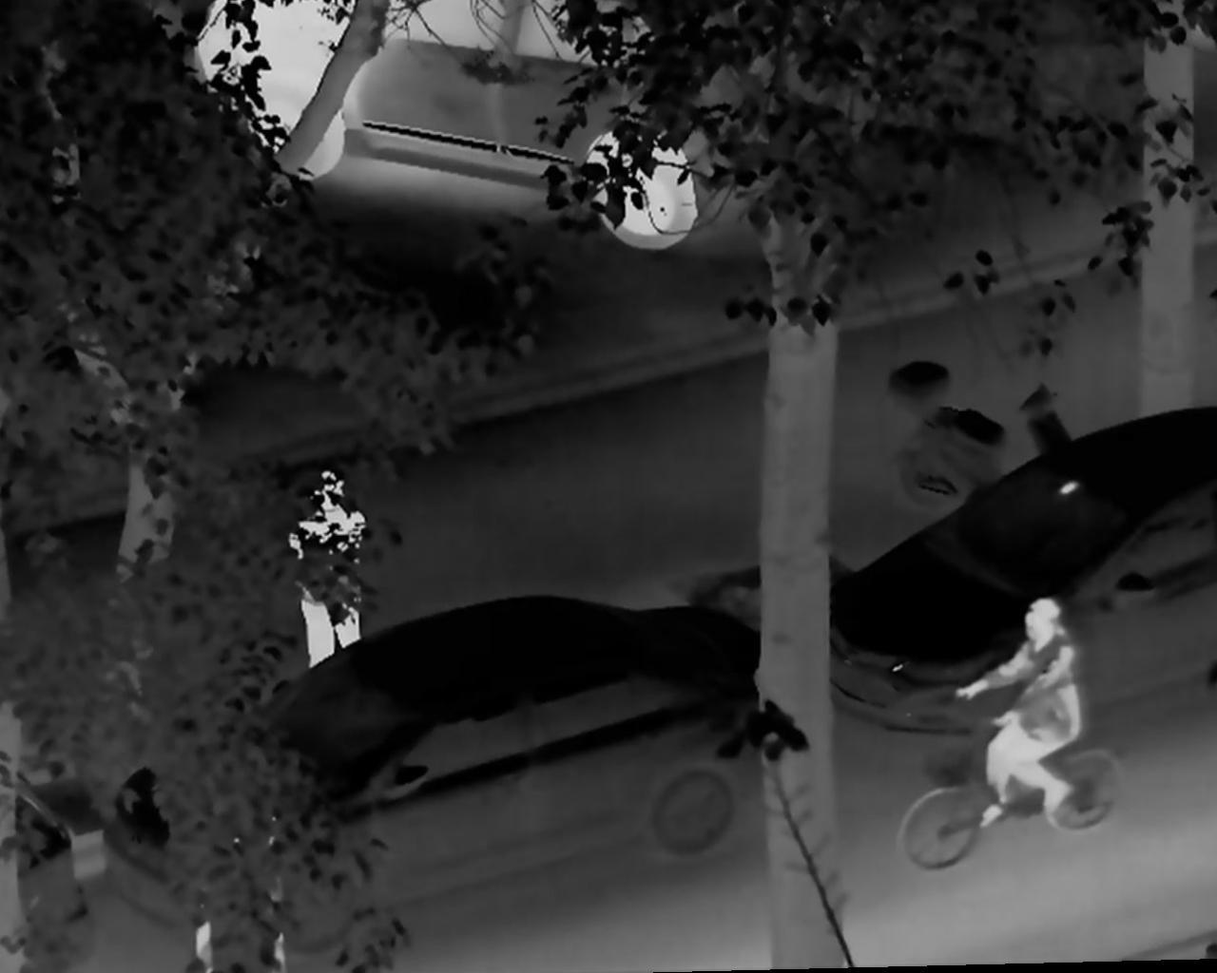person: (956, 594, 1080, 833), (287, 464, 366, 675)
